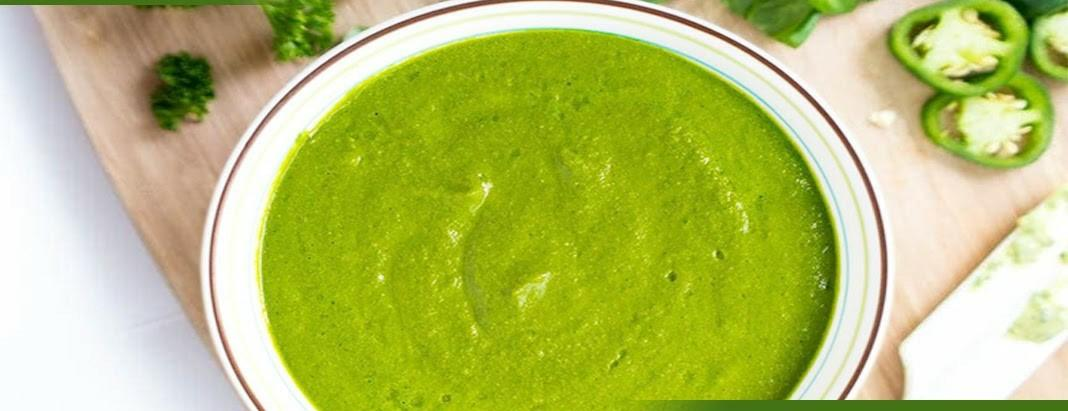GreenChutney: (261, 29, 834, 411)
